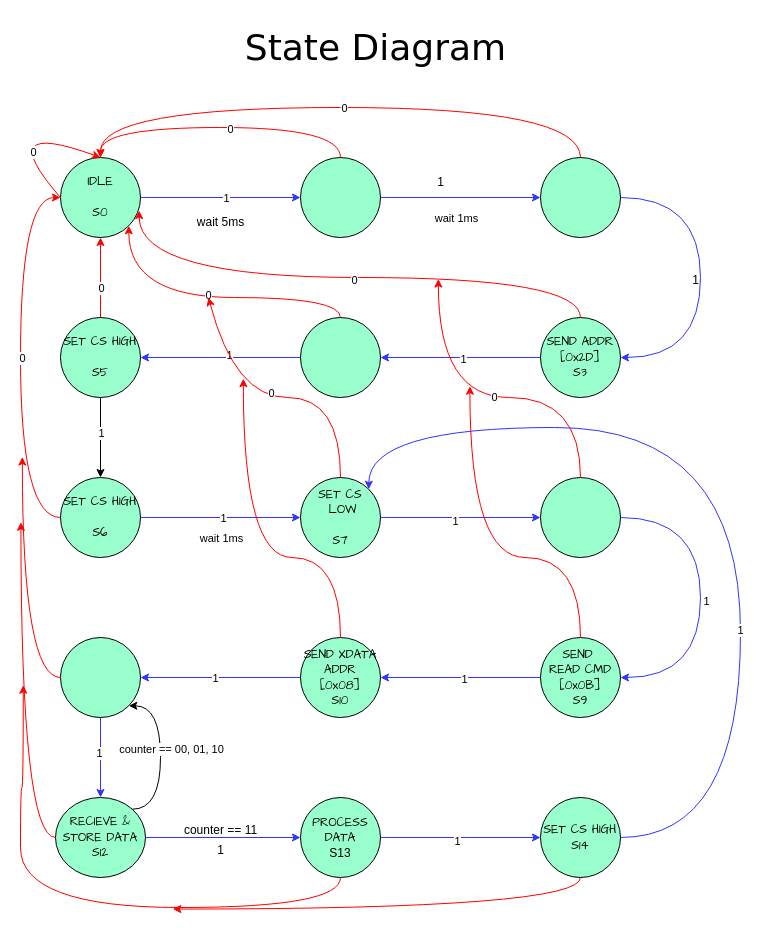
Some shapes in this 761 by 930 pixel diagram are drawn without their labels. The shapes that lost their labels are listed below. From the top down, each one's centre as x and y in pixels, then its label:
At point (340, 197): "SET CS LOW S1".
At point (580, 197): "SEND WRITE CMD [0x0A] S2".
At point (340, 357): "SEND DATA [0x02] S4".
At point (580, 517): "SEND READ CMD [0x0B] S8".
At point (100, 677): "SEND DUMMY DATA S11".
